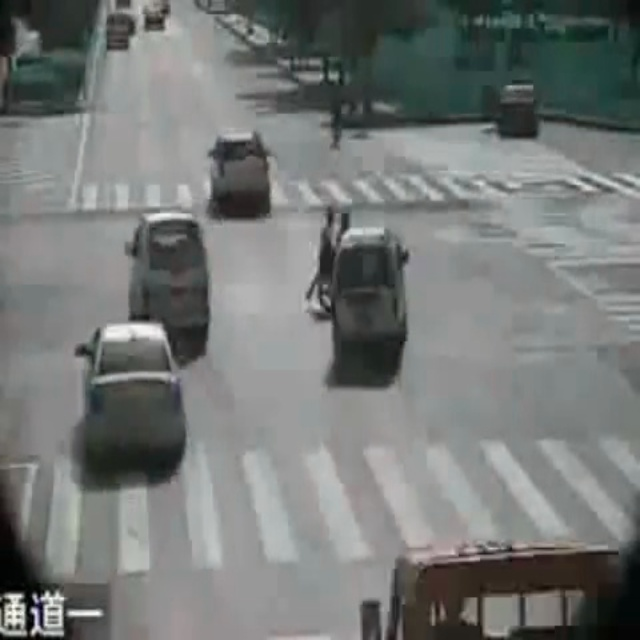acc: (298, 196, 416, 357)
